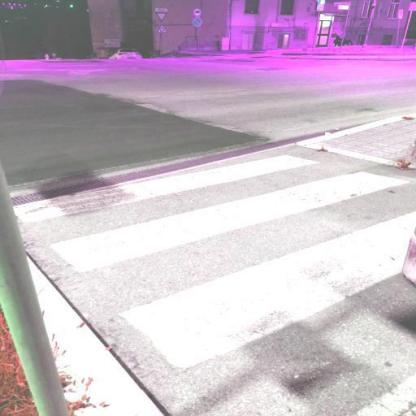crosswalk: (9, 141, 416, 279)
